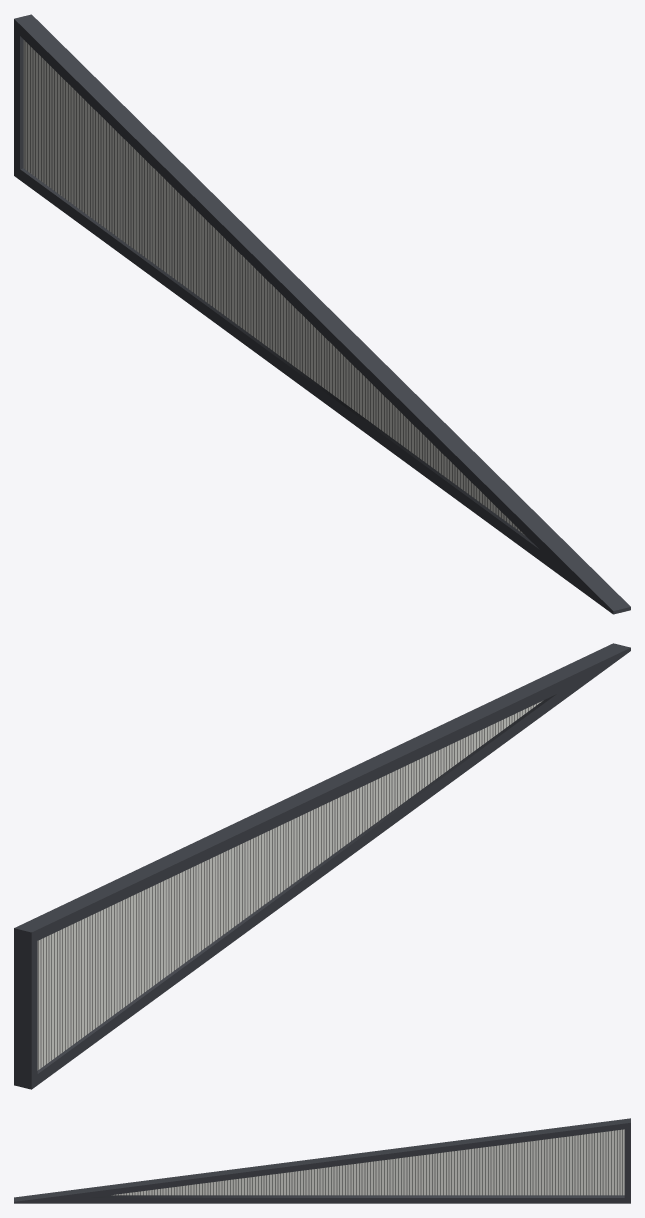
File: nebbiolo_side_gable_left_400_300.glb
3 renders of one model, top to bottom at view 1: azimuth 30°, elevation 25°; view 2: azimuth 150°, elevation 25°; view 3: azimuth 270°, elevation 25°, orthographic. The views are drawn at different scales.
Visible parts, largest first — view 1: side_gable_left_400_300; view 2: side_gable_left_400_300; view 3: side_gable_left_400_300.
Boxes of the visible parts, x1,y1,x2,y2 form: side_gable_left_400_300: (14, 14, 630, 614); side_gable_left_400_300: (14, 643, 630, 1089); side_gable_left_400_300: (14, 1118, 630, 1203).
Bounding box in the file's own units: 0.05 × 0.4246 × 2.94.
2 materials, 2 textured.
